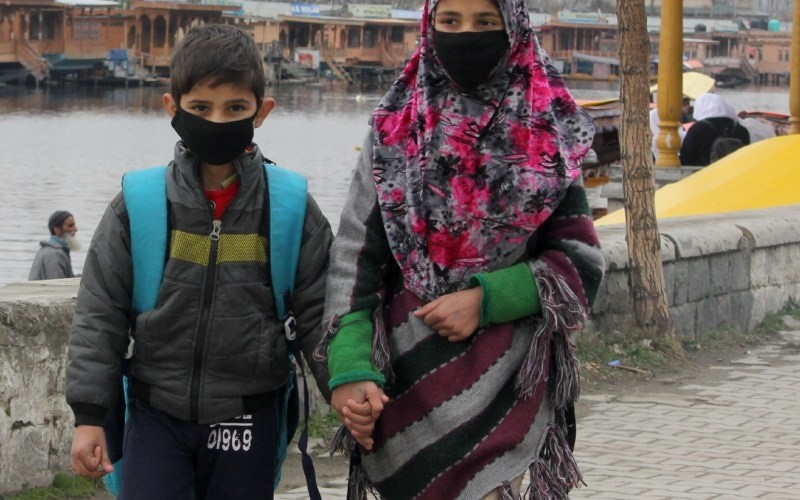face_with_mask: (162, 26, 273, 163), (420, 5, 531, 89)
